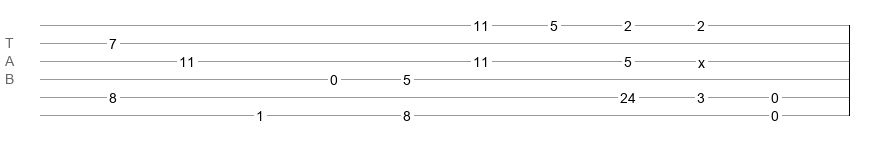0: (330, 72, 338, 82), (771, 90, 779, 100), (771, 108, 779, 118)
1: (256, 108, 264, 118)
11: (179, 54, 195, 64), (473, 54, 489, 64), (473, 18, 489, 28)
2: (624, 18, 632, 28), (697, 18, 705, 28)
24: (620, 90, 636, 100)
3: (697, 90, 705, 100)
5: (403, 72, 411, 82), (550, 18, 558, 28), (624, 54, 632, 64)
7: (109, 36, 117, 46)
8: (109, 90, 117, 100), (403, 108, 411, 118)
x: (698, 55, 705, 63)
